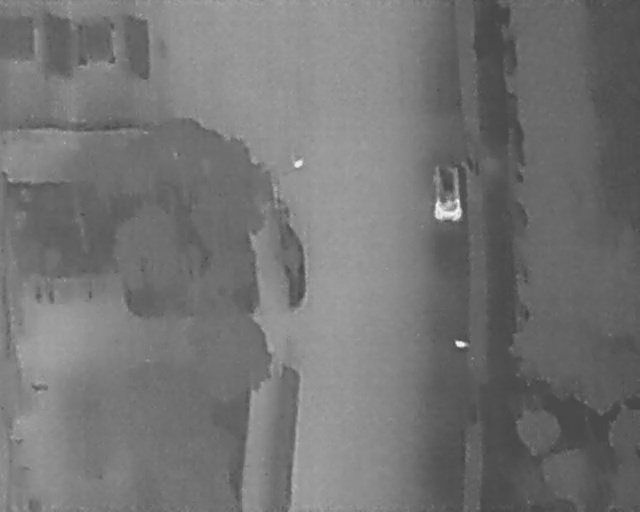Car: (429, 163, 463, 221)
